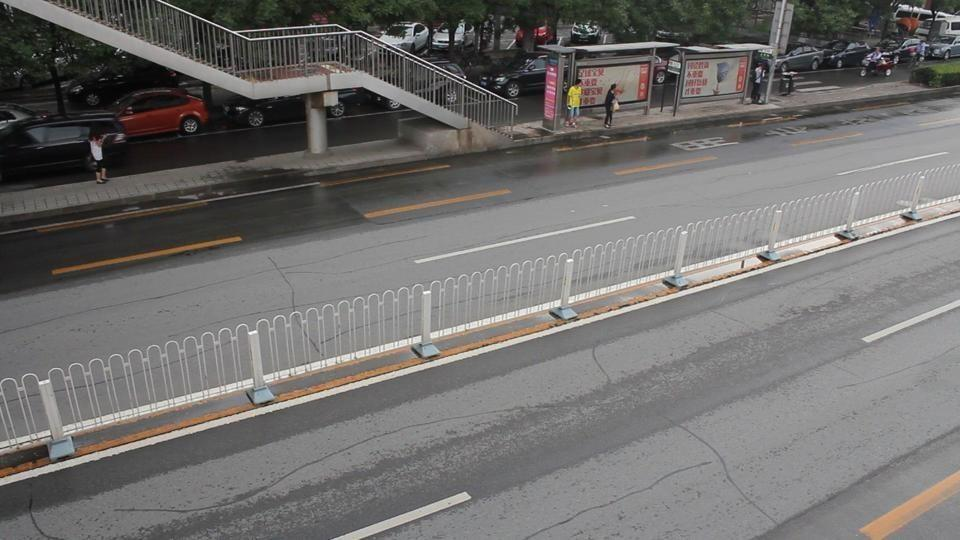car: (1, 111, 131, 182), (66, 61, 178, 109), (112, 88, 210, 140), (480, 55, 556, 98), (380, 21, 430, 54), (819, 43, 871, 69), (775, 47, 826, 73), (0, 104, 49, 126), (860, 50, 896, 77), (923, 39, 959, 61), (568, 23, 603, 44), (895, 39, 927, 61)
